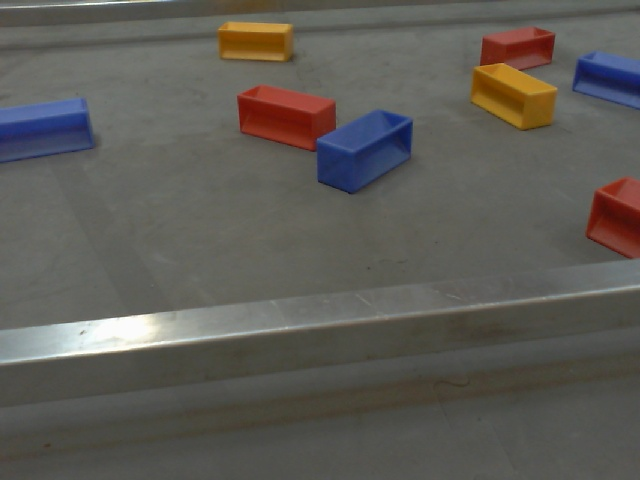BlueSample: (314, 106, 416, 197), (1, 96, 94, 165), (571, 46, 640, 114)
RedSample: (233, 81, 340, 156), (581, 171, 640, 262), (478, 24, 557, 75)
YellowSample: (467, 60, 559, 133), (214, 18, 296, 67)
